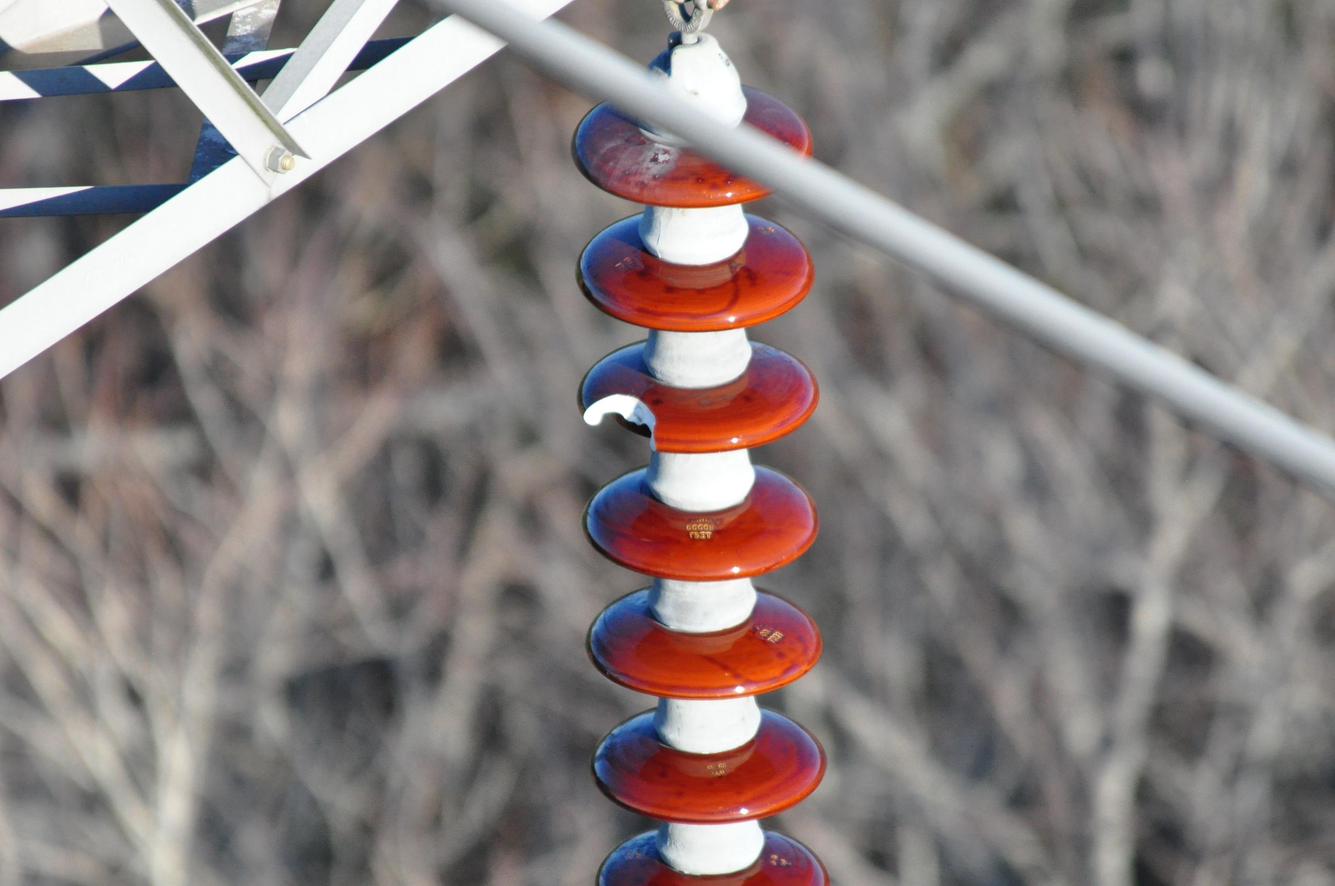damaged: (579, 373, 677, 458)
insulator: (570, 81, 835, 886)
